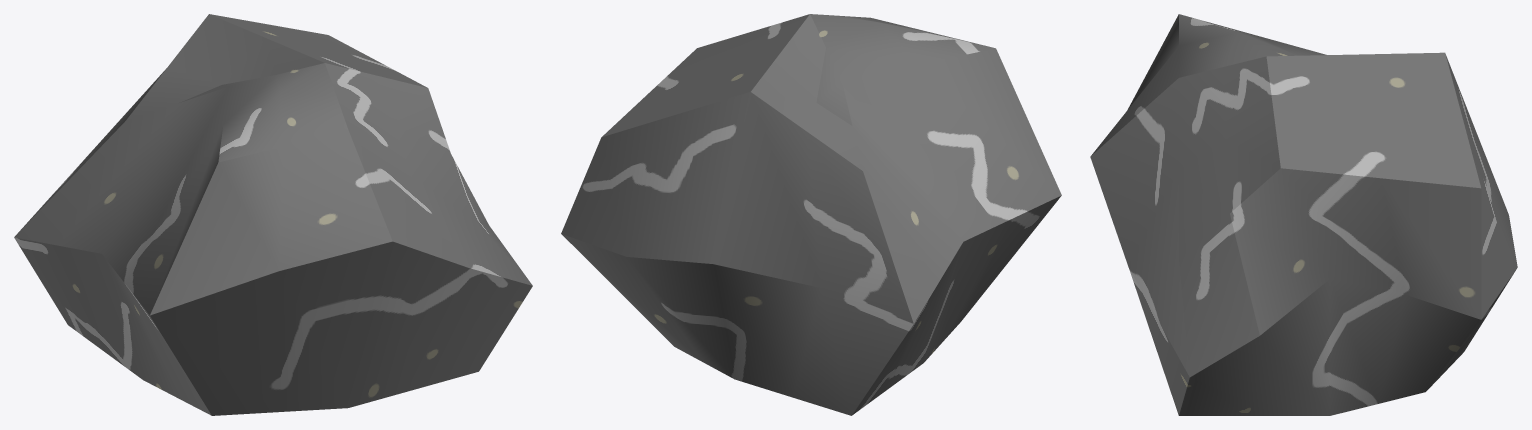
Rendered from SD_RockV2.fbx.
3 views of the same model, side by side, from view 1: azimuth 30°, elevation 25°; view 2: azimuth 150°, elevation 25°; view 3: azimuth 270°, elevation 25° (orthographic). The views are drawn at different scales.
Visible parts, largest first — view 1: SD_Rock; view 2: SD_Rock; view 3: SD_Rock.
Part boxes in pixels (left/top/right/bottom): SD_Rock: left=14, top=14, right=532, bottom=415; SD_Rock: left=561, top=14, right=1061, bottom=415; SD_Rock: left=1090, top=14, right=1517, bottom=415.
Size of the model in its own units: 268 by 219 by 254.
Materials: 1 (1 with a texture image).
